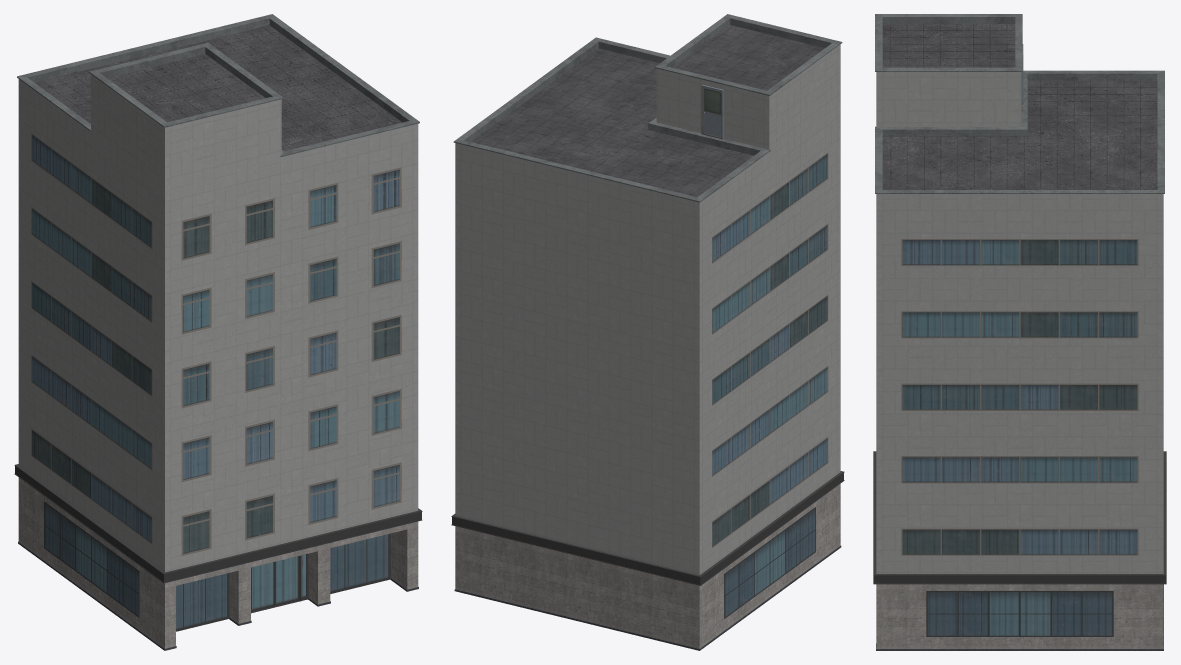
File: jctBld12_E_low.fbx
3 views of the same model, side by side, from view 1: azimuth 30°, elevation 25°; view 2: azimuth 150°, elevation 25°; view 3: azimuth 270°, elevation 25° (orthographic). The views are drawn at different scales.
Parts seen in each view (by area): view 1: jctBld12_E_low; view 2: jctBld12_E_low; view 3: jctBld12_E_low.
Boxes of the visible parts, x1=… form: jctBld12_E_low: x1=14, y1=14, x2=422, y2=650; jctBld12_E_low: x1=451, y1=14, x2=844, y2=650; jctBld12_E_low: x1=873, y1=14, x2=1166, y2=650.
Size of the model in its own units: 1174 by 2275 by 1174.
